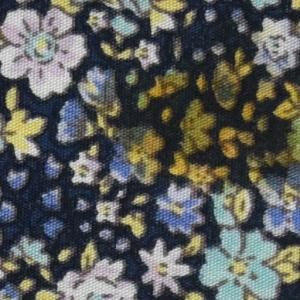Oil Stain: (142, 65, 299, 191)
